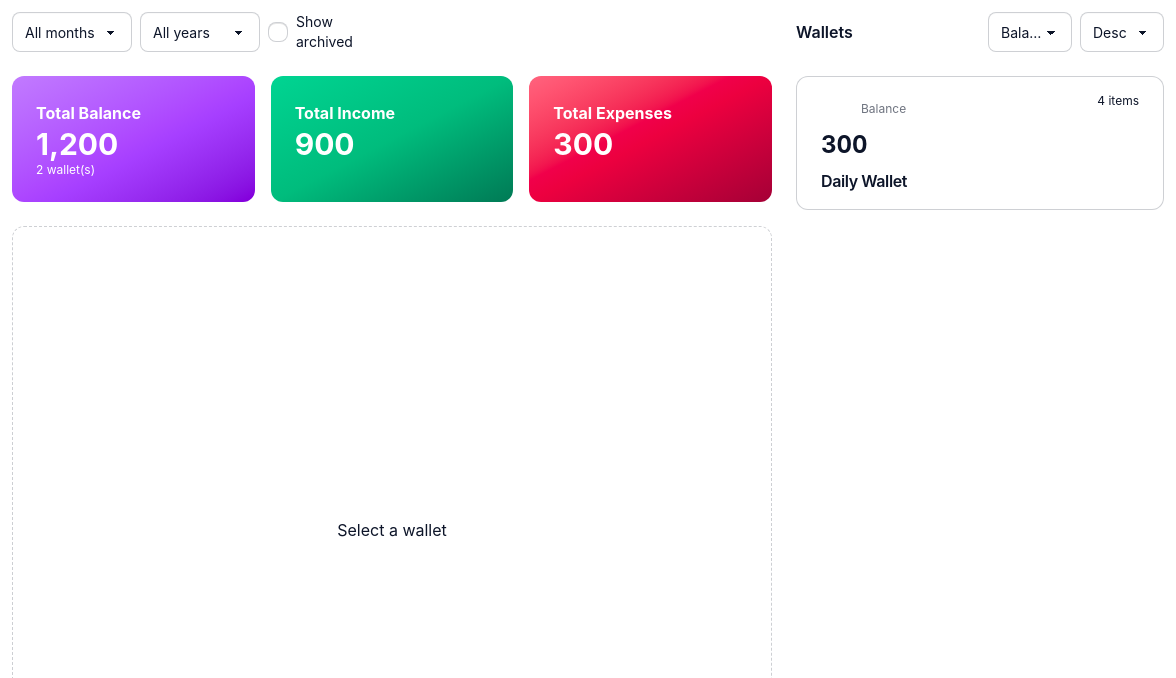
it: Dashboard › displays per-wallet stats and transactions after selection
Click the element showing "Balance 4 items 300 Daily Wallet" at [980, 143], box [796, 76, 1164, 210]
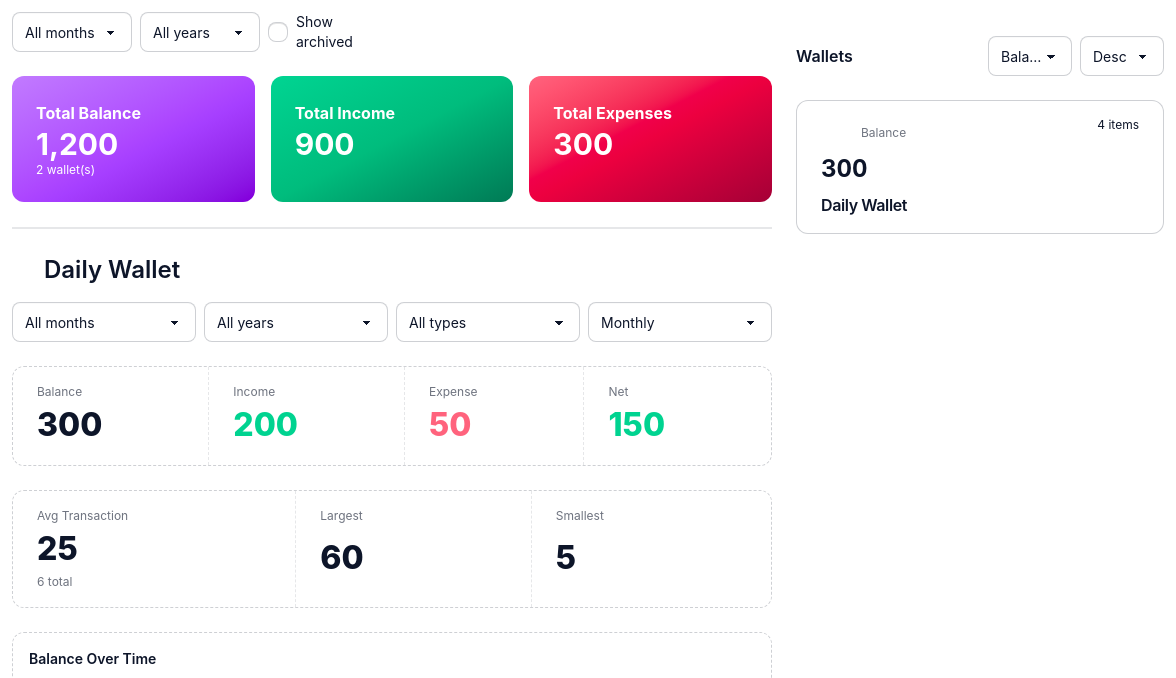
Expected: the text "Net" is shown, [608, 384, 628, 399]
Expected: the text "Avg Transaction" is shown, [37, 508, 128, 523]
Expected: the text "Largest" is shown, [320, 508, 363, 523]
